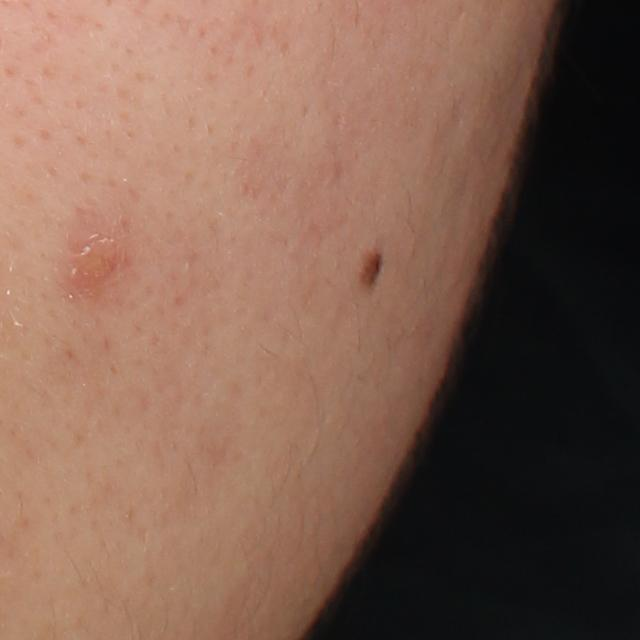nevus: (356, 249, 386, 290)
papule: (74, 230, 123, 290)
